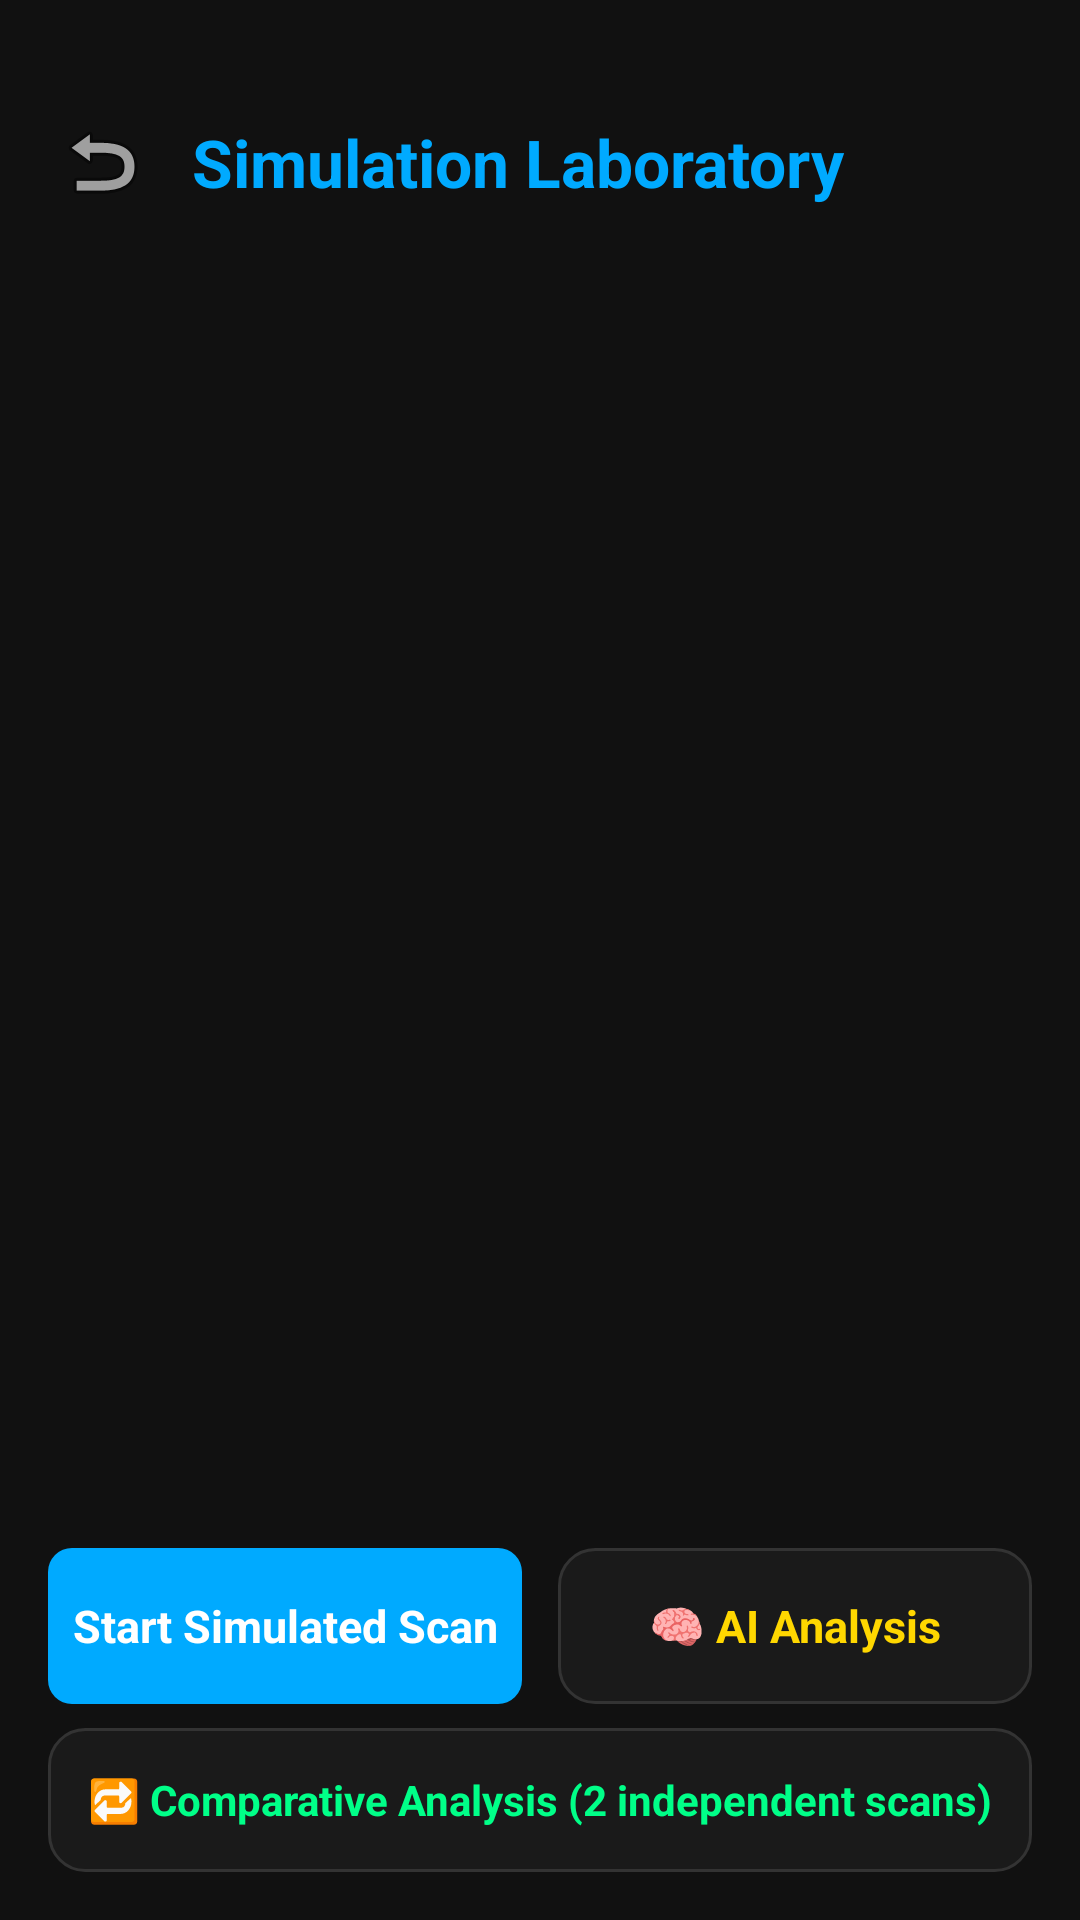

Named icons in this screenshot (1080px x 1920px) and their centers, (x=x, y=y):
revert: (x=103, y=162)
